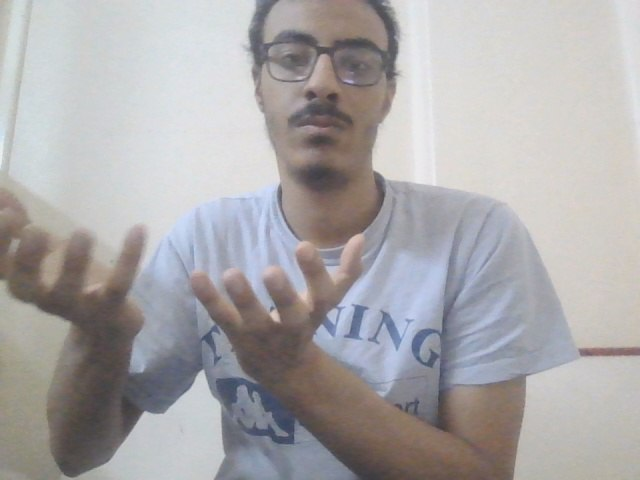What: (1, 177, 373, 392)
